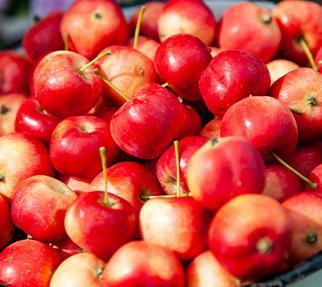apple: (208, 194, 291, 280), (109, 84, 184, 162), (64, 190, 139, 260), (218, 94, 298, 159), (48, 114, 122, 182), (28, 50, 102, 118), (136, 194, 209, 258), (9, 171, 71, 238), (217, 1, 284, 62), (58, 1, 127, 57), (153, 35, 212, 100), (1, 131, 56, 200), (84, 160, 164, 207), (154, 137, 215, 196), (269, 1, 322, 66), (281, 191, 322, 264), (156, 1, 214, 47), (269, 67, 322, 114), (50, 252, 106, 286)
